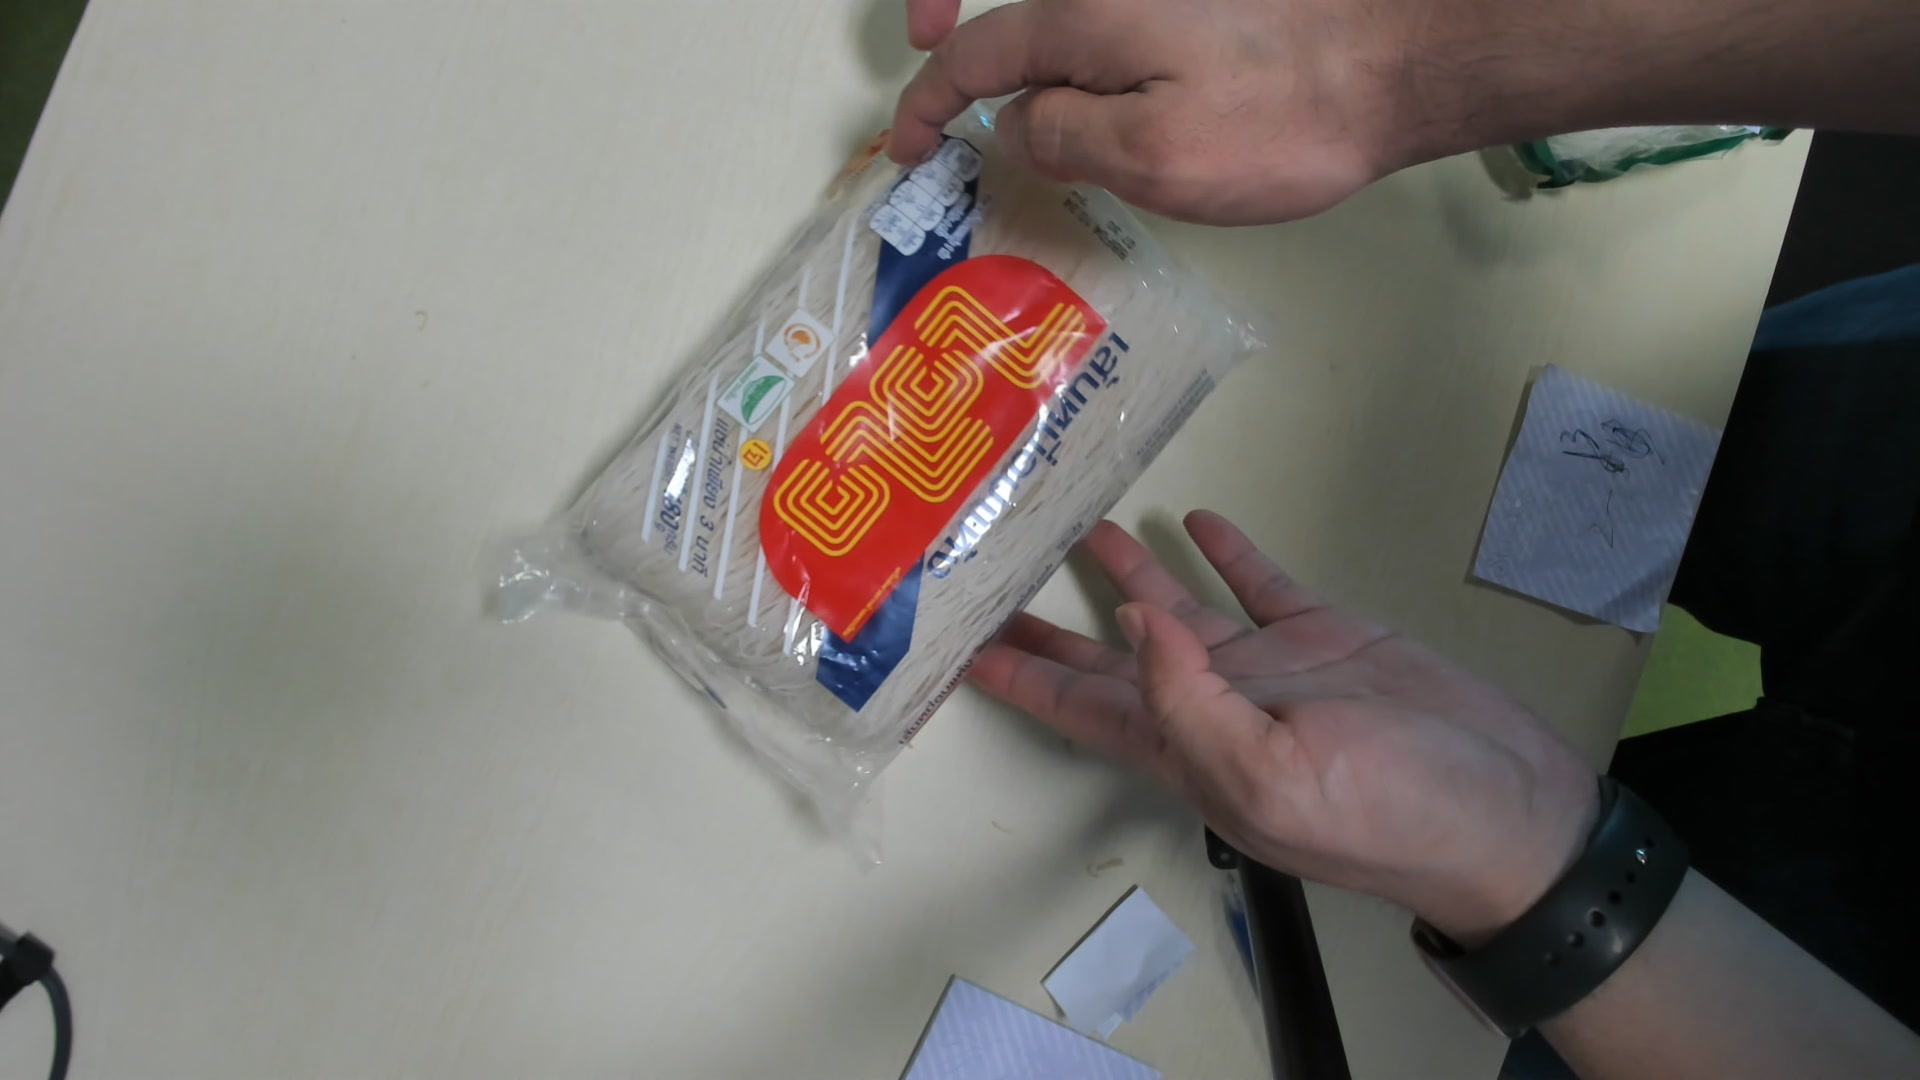BeeHoonVermicelli_100-199g_NonHalal_NonHealthy: (504, 105, 1236, 778)
